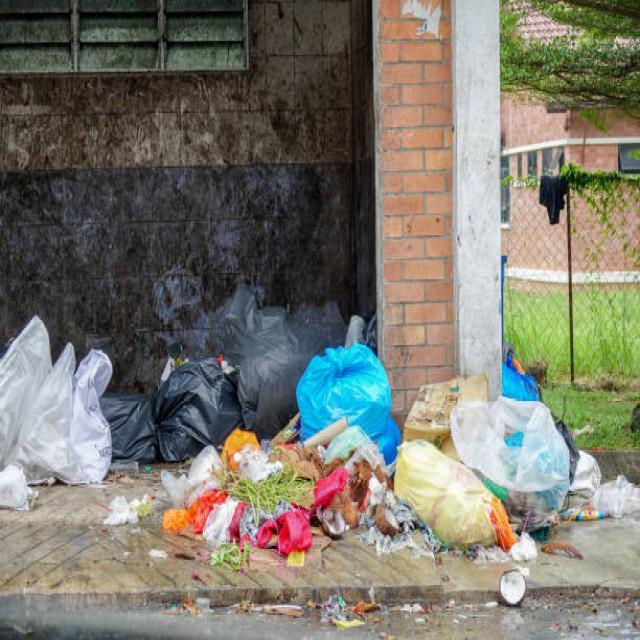garbage: (3, 239, 640, 600)
